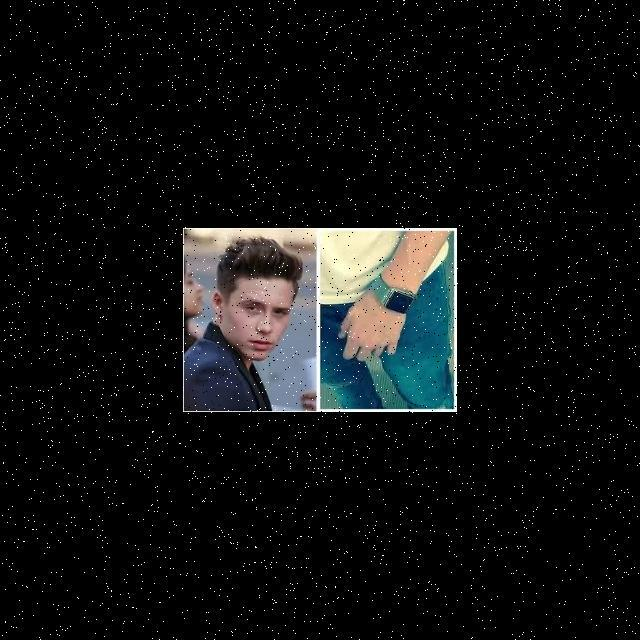watch: (374, 277, 438, 335)
